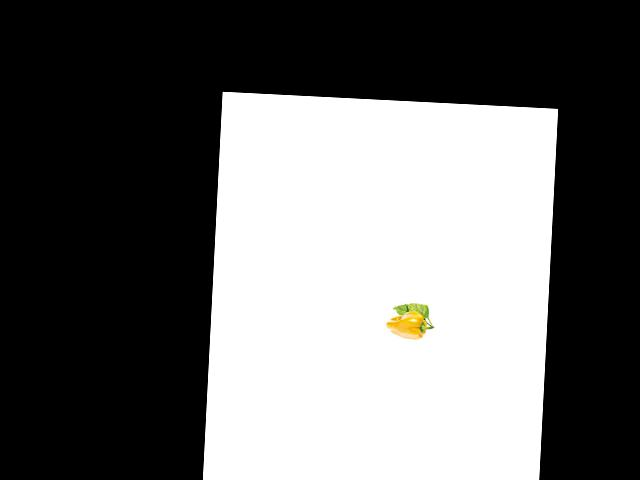bell_pepper: (384, 309, 436, 343)
